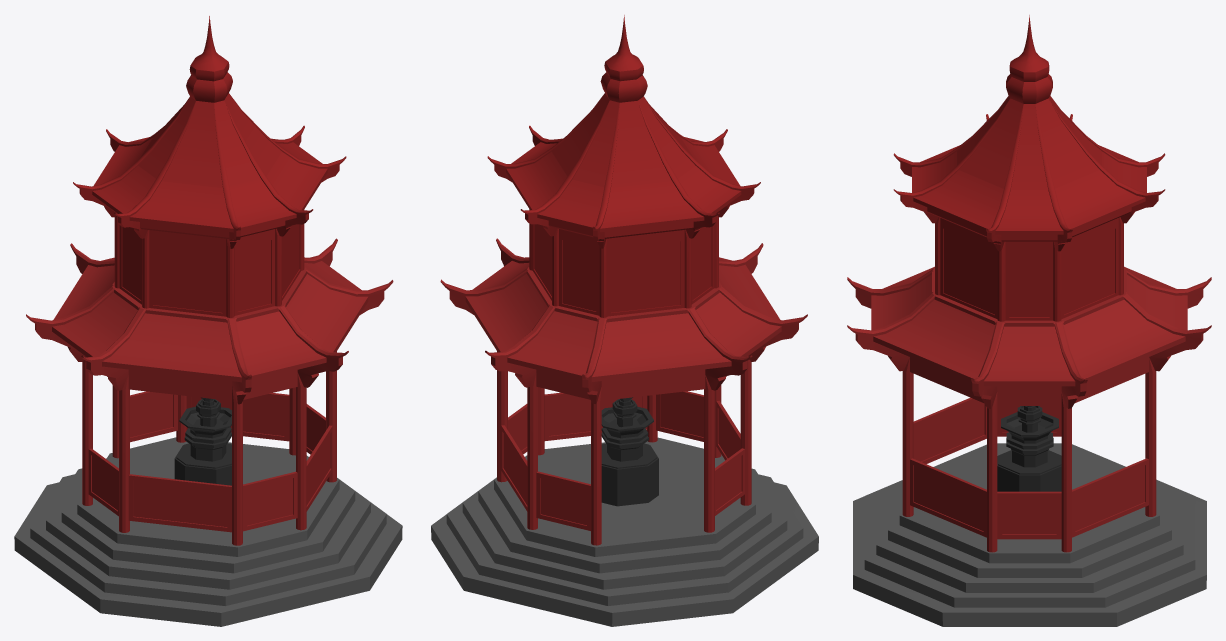
File: SpawnShrine.FBX
3 views of the same model, side by side, from view 1: azimuth 30°, elevation 25°; view 2: azimuth 150°, elevation 25°; view 3: azimuth 270°, elevation 25° (orthographic).
Visible parts, largest first — view 1: Cylinder001, Cylinder002, Box001, Object001; view 2: Cylinder001, Box001, Cylinder002, Object001; view 3: Cylinder001, Cylinder002, Box001, Object001.
Part boxes in pixels (bbox=[...]): Cylinder001: bbox=[26, 238, 393, 545]; Cylinder002: bbox=[73, 16, 346, 317]; Box001: bbox=[14, 437, 402, 626]; Object001: bbox=[174, 397, 231, 485]; Cylinder001: bbox=[440, 238, 807, 545]; Box001: bbox=[431, 437, 818, 626]; Cylinder002: bbox=[487, 15, 760, 317]; Object001: bbox=[601, 397, 658, 506]; Cylinder001: bbox=[847, 266, 1211, 552]; Cylinder002: bbox=[893, 15, 1165, 321]; Box001: bbox=[853, 443, 1206, 626]; Object001: bbox=[997, 406, 1061, 491].
Bounding box in the file's own units: 220 × 359 × 220.
